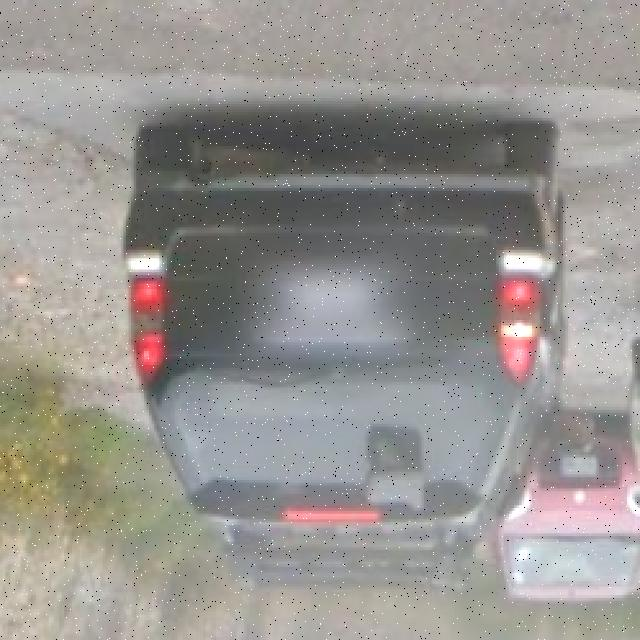car: (118, 110, 552, 551)
